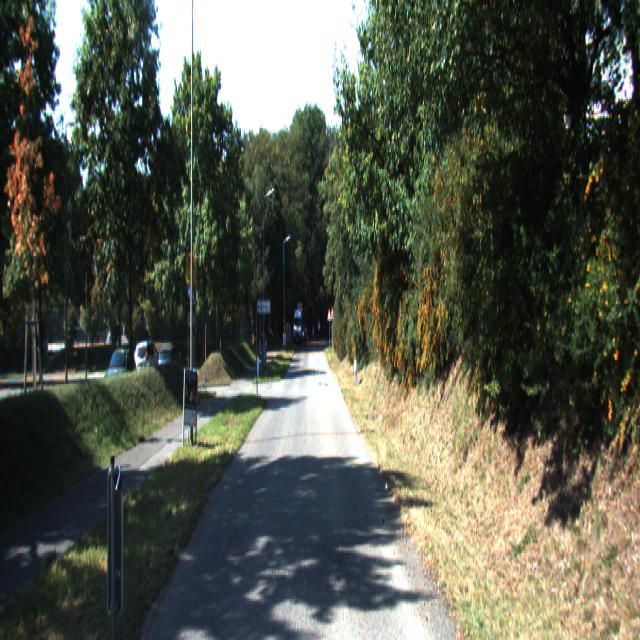Car: (102, 346, 139, 407), (133, 340, 161, 388)
